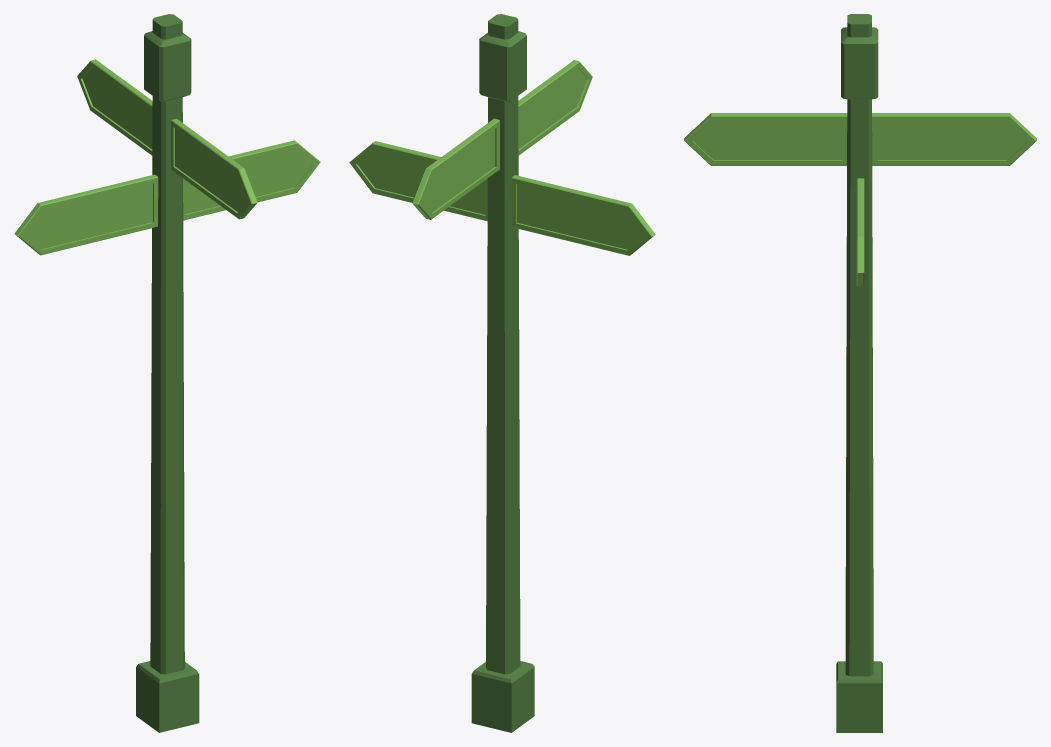
Rendered from streetsign_a_245.gltf.
3 views of the same model, side by side, from view 1: azimuth 30°, elevation 25°; view 2: azimuth 150°, elevation 25°; view 3: azimuth 270°, elevation 25° (orthographic).
Visible parts, largest first — view 1: streetsign_a003; view 2: streetsign_a003; view 3: streetsign_a003.
Part boxes in pixels (left/top/right/bottom): streetsign_a003: left=14, top=14, right=320, bottom=732; streetsign_a003: left=349, top=14, right=655, bottom=732; streetsign_a003: left=684, top=14, right=1036, bottom=732.
Bounding box in the file's own units: 0.8721 × 1.92 × 0.8721.
1 material, 1 textured.
